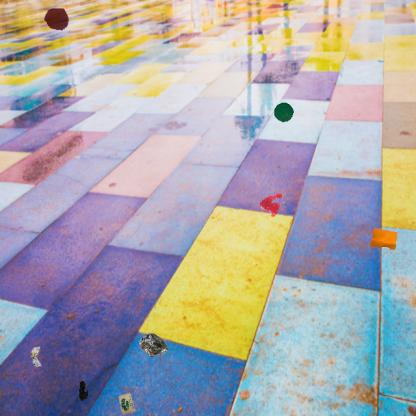dirty: (138, 330, 168, 357), (369, 228, 397, 250), (272, 100, 296, 124), (117, 392, 137, 416), (29, 345, 43, 369), (77, 378, 91, 402)
liquid: (43, 7, 70, 31), (259, 192, 283, 218)
